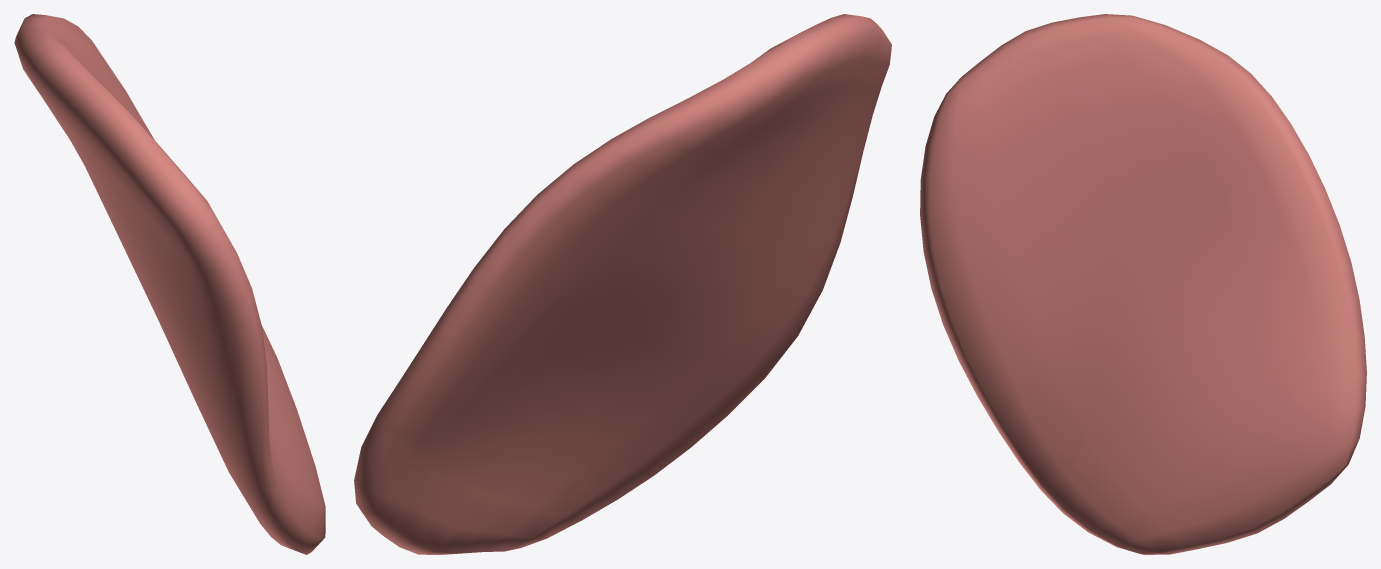
3 views of the same model, side by side, from view 1: azimuth 30°, elevation 25°; view 2: azimuth 150°, elevation 25°; view 3: azimuth 270°, elevation 25° (orthographic). The views are drawn at different scales.
Visible parts, largest first — view 1: ZA_3d2533b0c9744fb7; view 2: ZA_3d2533b0c9744fb7; view 3: ZA_3d2533b0c9744fb7.
Boxes of the visible parts, bbox=[...] form: ZA_3d2533b0c9744fb7: bbox=[14, 14, 325, 554]; ZA_3d2533b0c9744fb7: bbox=[354, 14, 891, 554]; ZA_3d2533b0c9744fb7: bbox=[920, 14, 1366, 554].
Bounding box in the file's own units: 0.00752 × 0.0124 × 0.0115.
